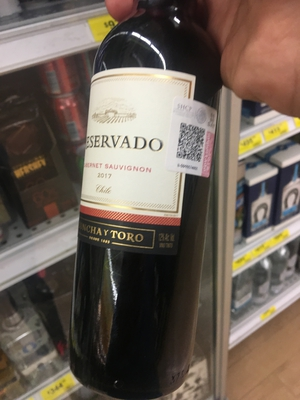reservado cabernet sauvignon: (73, 6, 223, 368)
